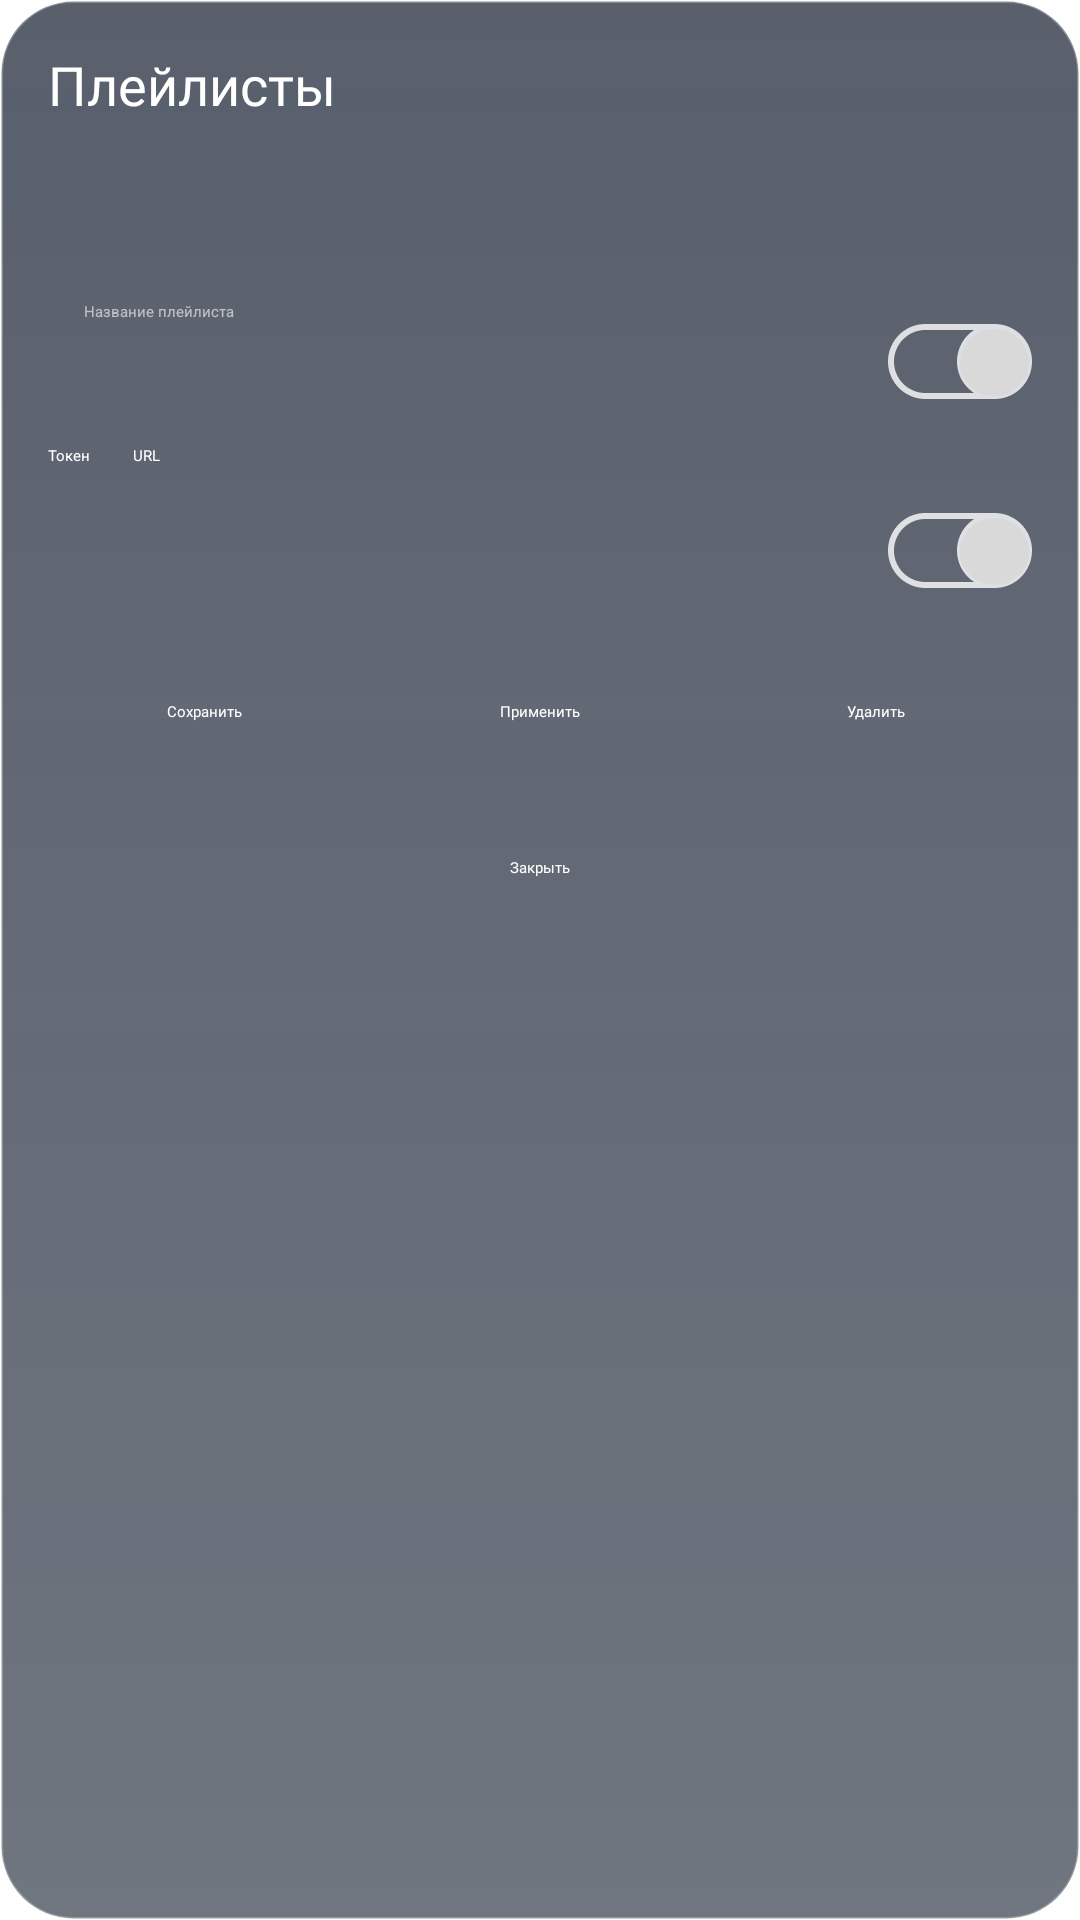

Locate icon controls on the screen. Image size 1080w x 1920h, boxes as (x1,y1,x2,y2).
Включение плейлиста: (888,324,1032,399), (888,513,1032,588)
